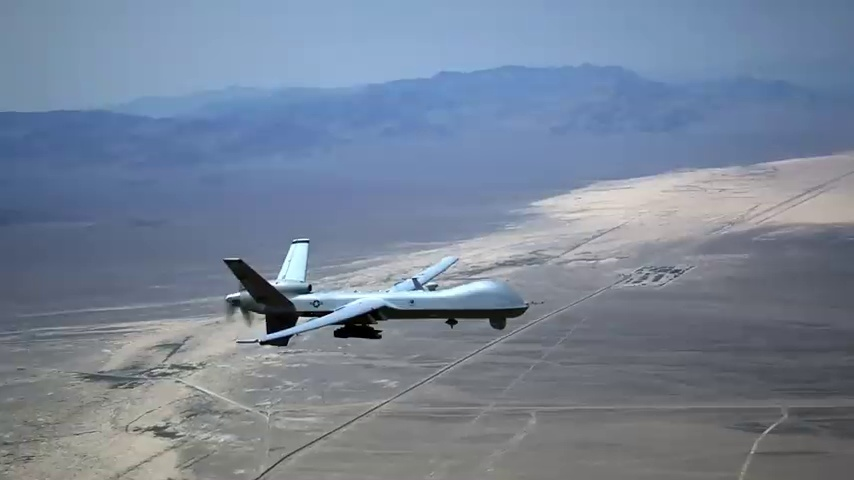military drone: (222, 237, 545, 346)
